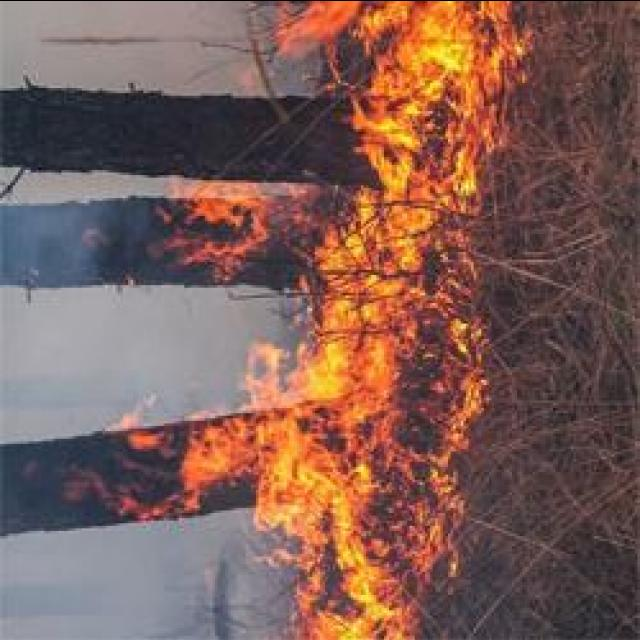fire: (350, 13, 484, 164), (247, 421, 413, 523), (339, 232, 400, 386), (330, 570, 395, 640)
smoke: (34, 300, 214, 397), (58, 544, 218, 624), (57, 11, 227, 82)
